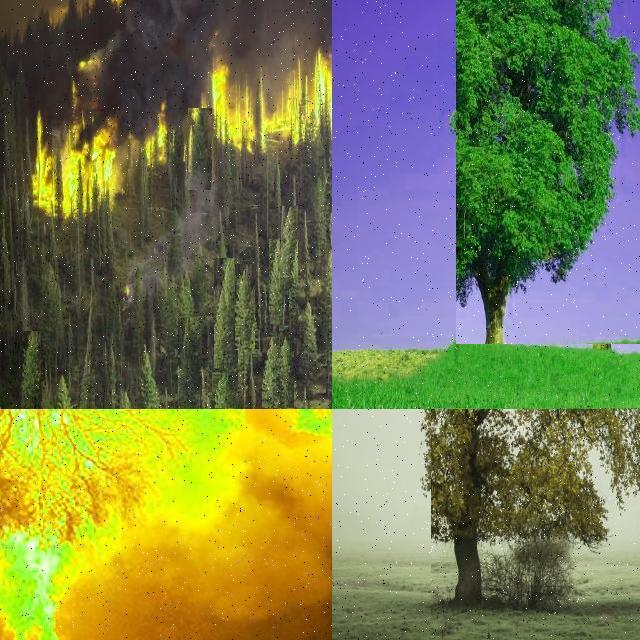tree: (456, 0, 640, 344), (431, 408, 640, 639), (0, 409, 192, 555), (162, 265, 190, 363), (214, 258, 238, 368), (262, 332, 294, 408), (39, 260, 65, 348), (1, 264, 20, 382), (178, 317, 202, 409), (79, 286, 95, 410), (188, 108, 212, 190), (235, 264, 255, 350), (269, 239, 289, 325), (316, 254, 332, 354), (137, 350, 163, 410), (22, 331, 42, 409), (301, 296, 319, 379), (138, 146, 152, 242), (280, 206, 298, 278), (168, 210, 185, 276), (54, 142, 66, 222), (212, 372, 238, 408), (253, 77, 265, 151), (54, 373, 74, 409)
